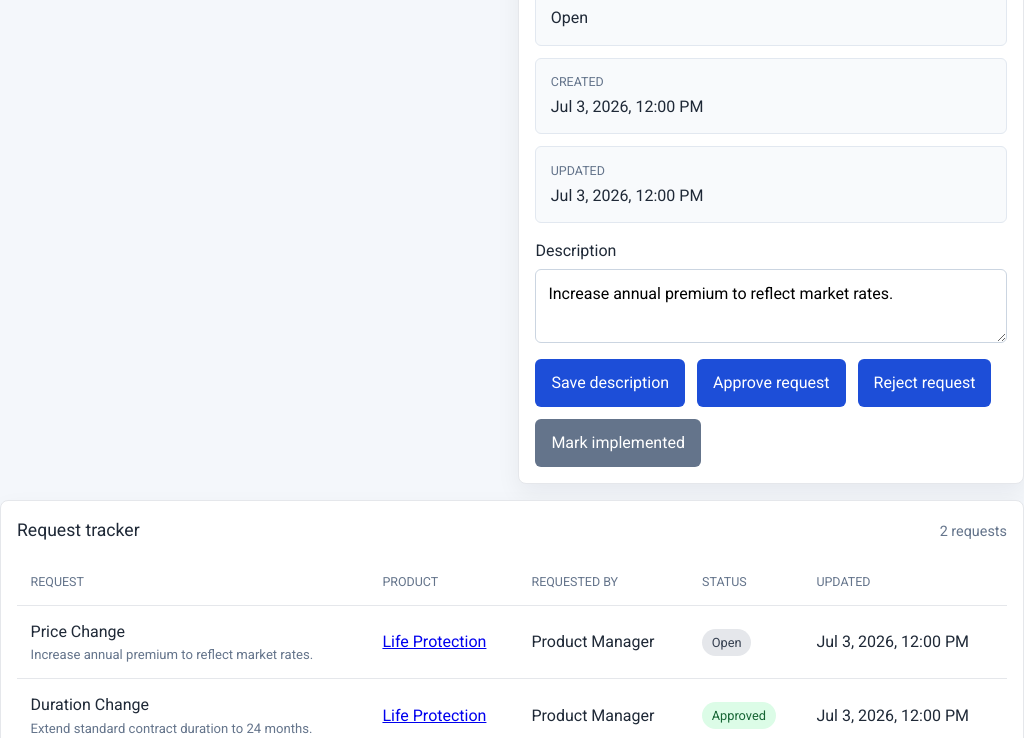
Test: ProductChangeRequestsPage › allows an admin to approve and mark a request implemented
(page scrolled)
Step 1. Click the button "Approve request" → (771, 383), box [697,359,846,407]
(page scrolled)
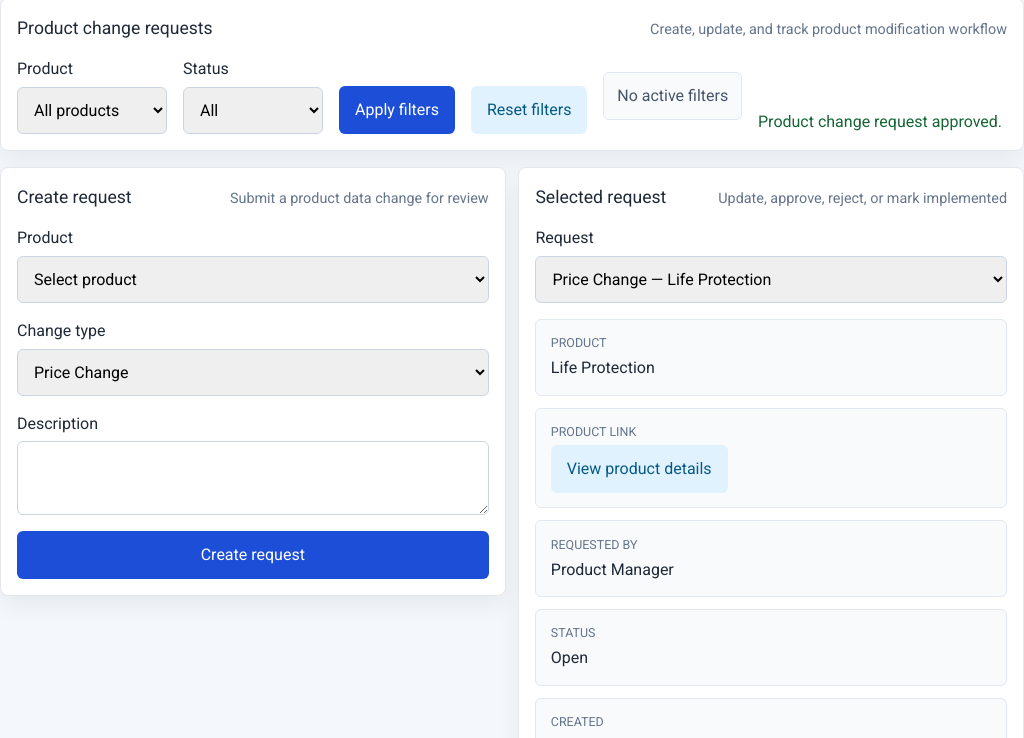
Expected: the text "Product change request approved." is shown, [758,110,1002,134]
Step 2. Select "Duration Change — Life Protection" in the dropdown named "Selected change request" → (771, 280), box [535,256,1007,303]
(page scrolled)
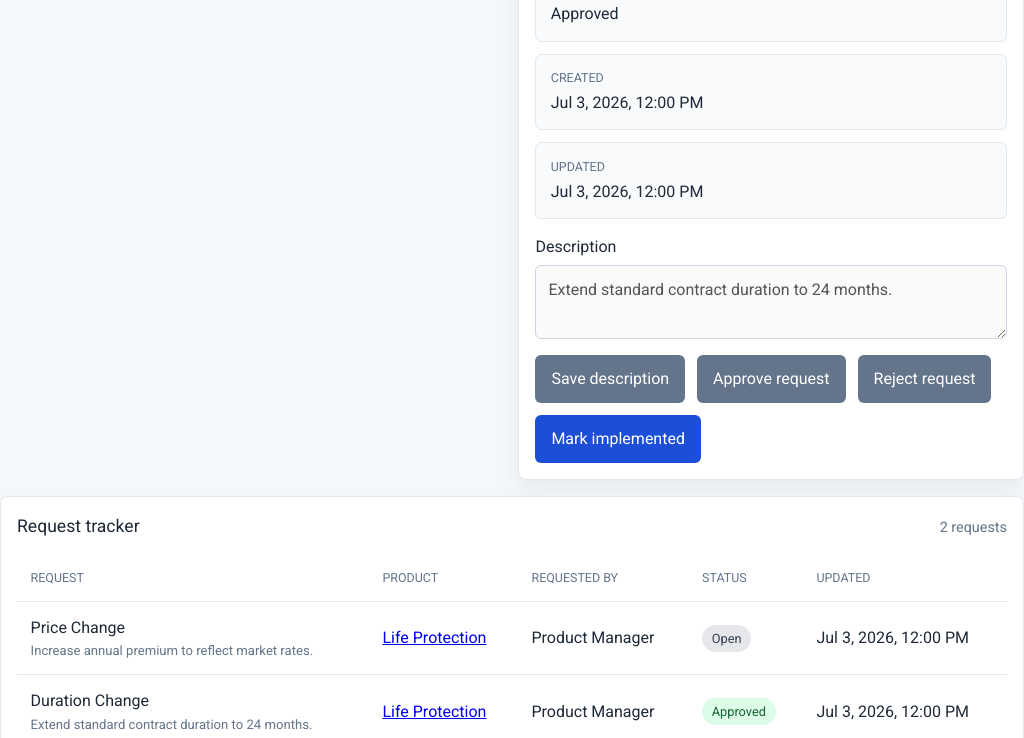
Step 3. Click the button "Mark implemented" → (618, 439), box [535,415,701,463]
(page scrolled)
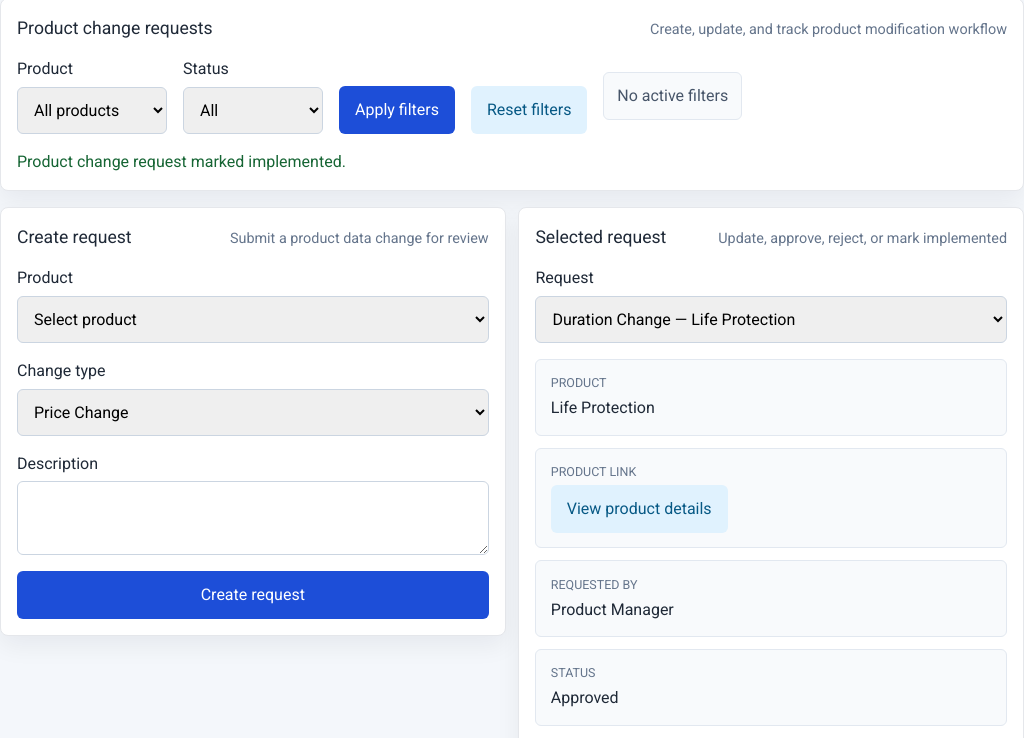
Expected: the text "Product change request marked implemented." is shown, [17,150,346,174]
